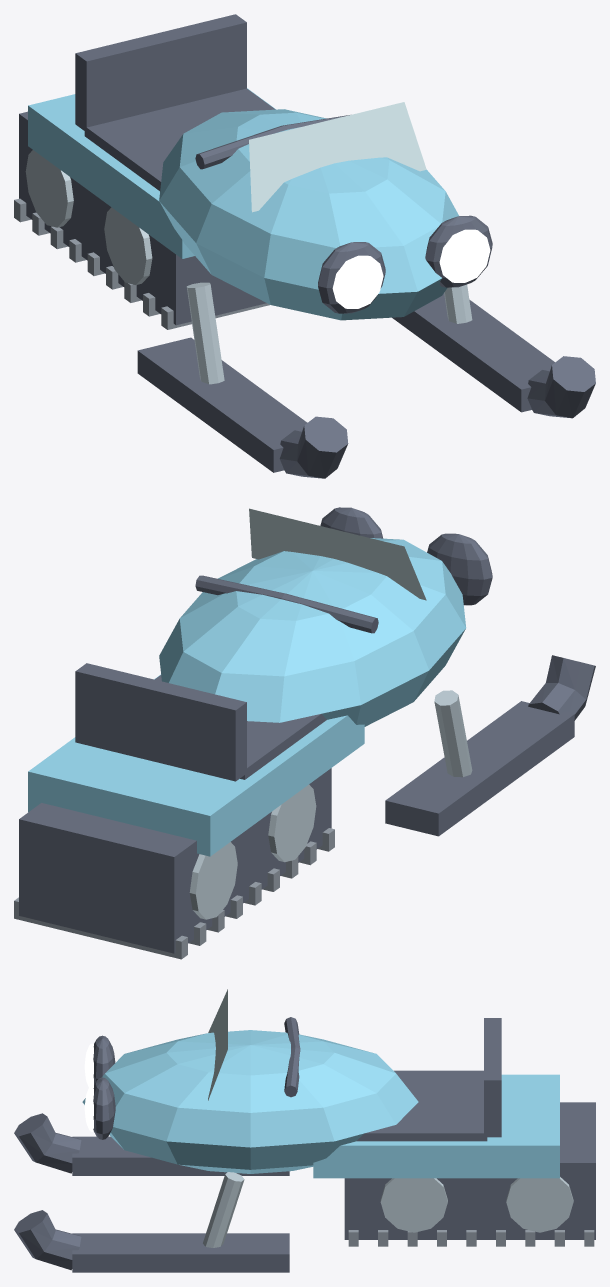
The model's file is snowmobile.glb.
The picture shows the model from 3 angles, top to bottom: view 1: azimuth 30°, elevation 25°; view 2: azimuth 150°, elevation 25°; view 3: azimuth 270°, elevation 25°; orthographic projection. The views are drawn at different scales.
Visible parts, largest first — view 1: paint (×2), ski (×2), seat-back, windshield, rubber-track, ski-curved-tip (×2), seat-pad, track-roller (×2), headlight (×2), headlight-rim (×2), ski-strut (×2), handlebar; view 2: paint (×2), rubber-track, seat-back, ski, windshield, track-roller (×2), headlight-rim (×2), ski-curved-tip, seat-pad, ski-strut, handlebar, track-cleat; view 3: paint (×2), ski (×2), rubber-track, seat-pad, track-roller (×2), ski-curved-tip (×2), seat-back, headlight-rim (×2), ski-strut, windshield, handlebar.
Boxes of the visible parts, x1,y1,x2,y2 form: paint (×2): (28, 88, 458, 320); ski (×2): (137, 293, 554, 472); seat-back: (75, 14, 246, 132); windshield: (249, 102, 426, 212); rubber-track: (19, 111, 266, 325); ski-curved-tip (×2): (279, 356, 595, 478); seat-pad: (84, 88, 275, 191); track-roller (×2): (25, 150, 152, 284); headlight (×2): (332, 229, 490, 308); headlight-rim (×2): (318, 215, 492, 313); ski-strut (×2): (186, 282, 472, 384); handlebar: (195, 115, 349, 169); paint (×2): (28, 538, 466, 856); rubber-track: (19, 768, 331, 953); seat-back: (75, 663, 246, 781); ski: (385, 701, 574, 836); windshield: (249, 508, 426, 600); track-roller (×2): (189, 784, 316, 919); headlight-rim (×2): (320, 507, 492, 605); ski-curved-tip: (528, 655, 595, 720); seat-pad: (155, 675, 326, 779); ski-strut: (434, 690, 472, 777); handlebar: (195, 575, 378, 633); track-cleat: (14, 897, 187, 959); paint (×2): (82, 1030, 559, 1178); ski (×2): (72, 1136, 289, 1272); rubber-track: (344, 1102, 595, 1239); seat-pad: (356, 1070, 487, 1141); track-roller (×2): (380, 1177, 573, 1232); ski-curved-tip (×2): (14, 1113, 81, 1270); seat-back: (484, 1018, 501, 1137); headlight-rim (×2): (93, 1035, 115, 1139); ski-strut: (203, 1172, 244, 1247); windshield: (208, 989, 227, 1100); handlebar: (284, 1017, 300, 1097).
Bounding box in the file's own units: 1.34 × 1.07 × 2.8.
